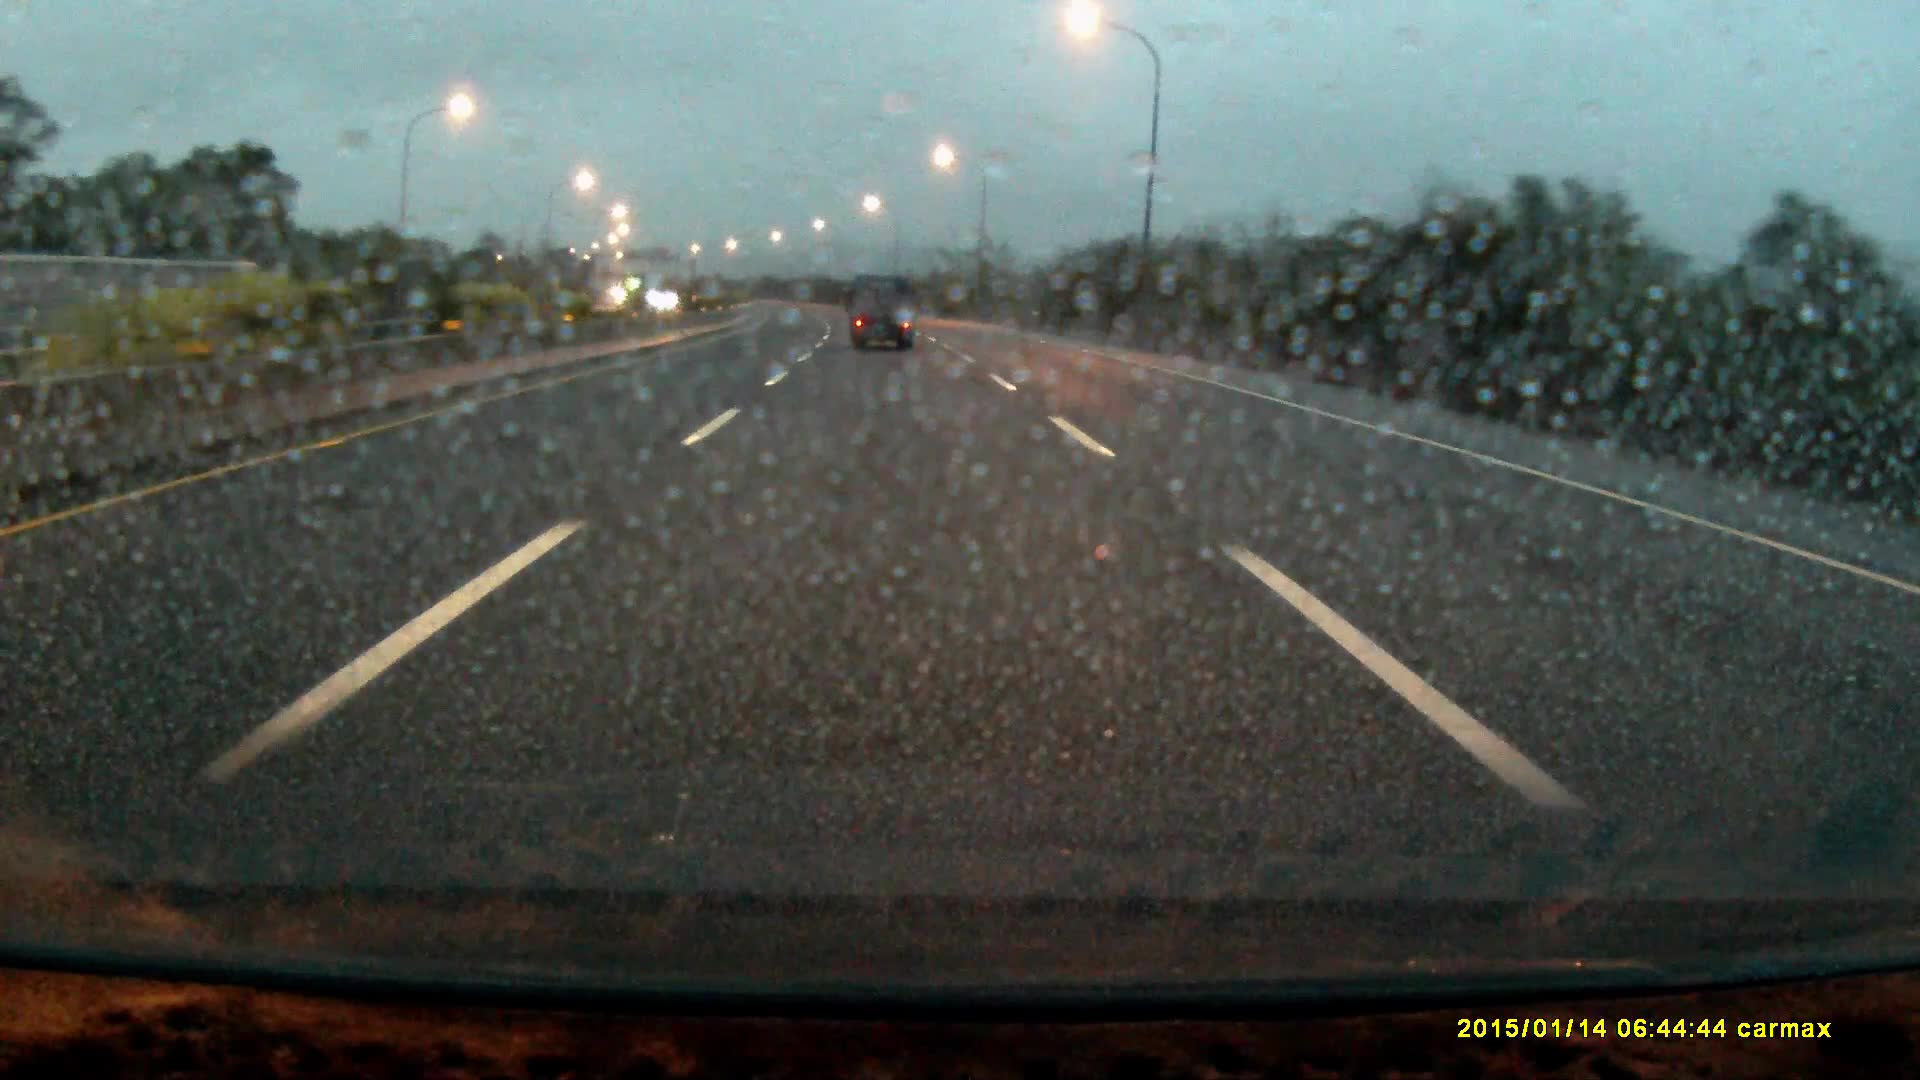vehicle: (848, 272, 918, 353)
